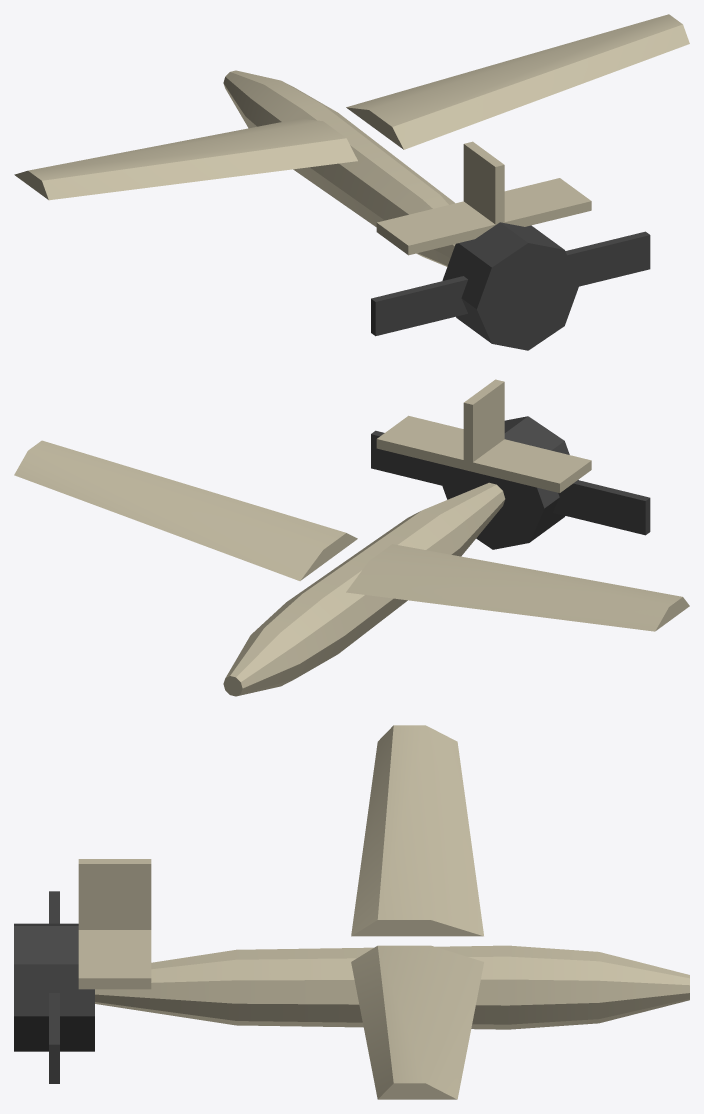
File: usa_uav_rq11.glb
3 views of the same model, one above another, from view 1: azimuth 30°, elevation 25°; view 2: azimuth 150°, elevation 25°; view 3: azimuth 270°, elevation 25° (orthographic). The views are drawn at different scales.
Visible parts, largest first — view 1: body; view 2: body; view 3: body.
Part boxes in pixels (left/top/right/bottom): body: left=14, top=14, right=689, bottom=350; body: left=14, top=379, right=689, bottom=696; body: left=14, top=725, right=689, bottom=1099.
Size of the model in its own units: 1.57 by 0.3836 by 1.25.
